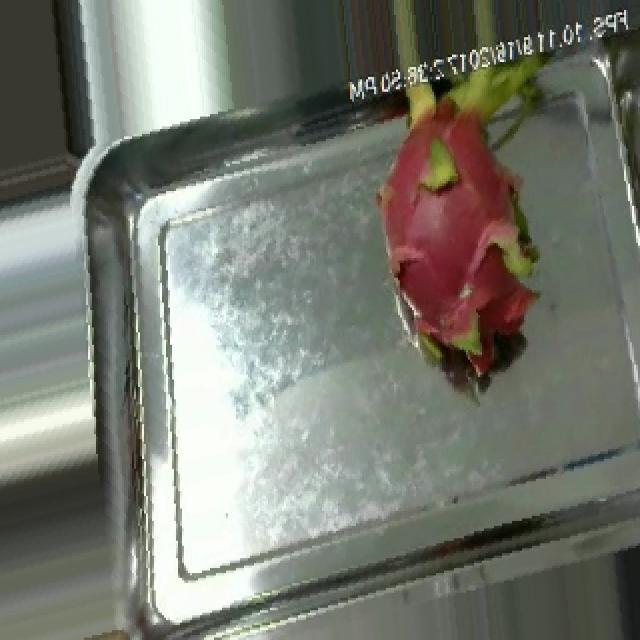fruit: (348, 32, 592, 414)
